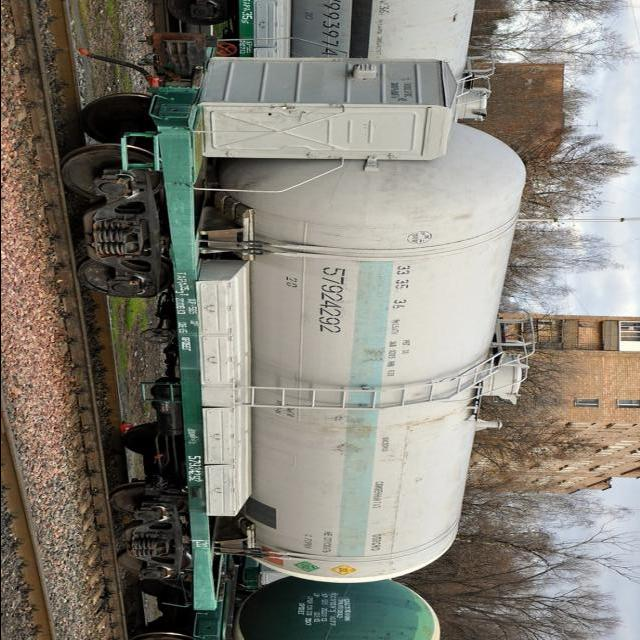wagon: (311, 267, 349, 335), (183, 454, 203, 483)
